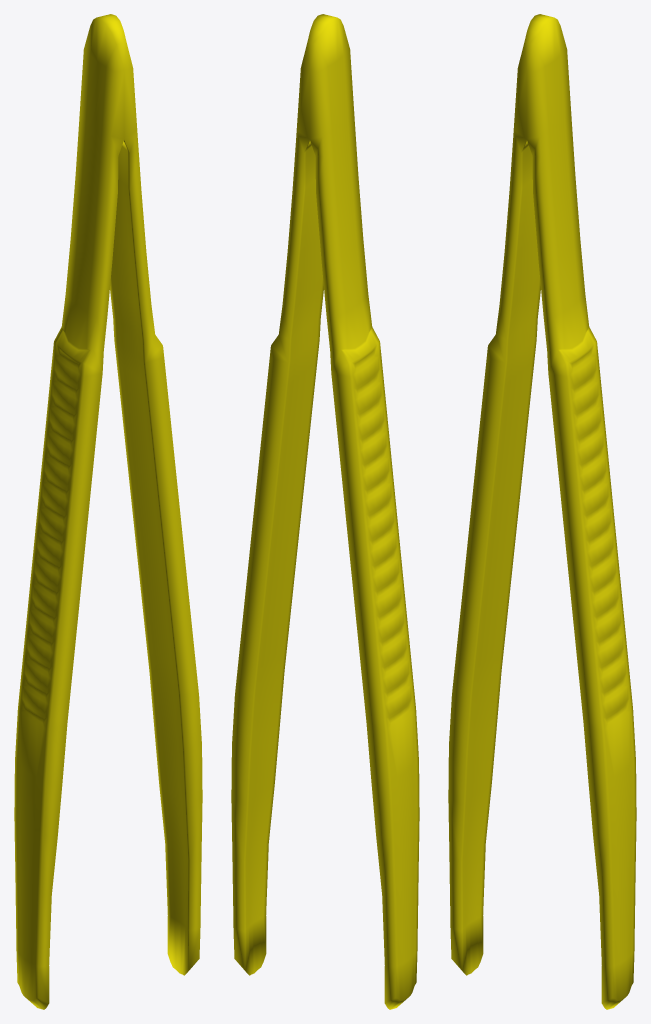
The model's file is twisers1.fbx.
The picture shows the model from 3 angles, left to right: view 1: azimuth 30°, elevation 25°; view 2: azimuth 150°, elevation 25°; view 3: azimuth 330°, elevation 25°; orthographic projection.
Visible parts, largest first — view 1: Plane.006; view 2: Plane.006; view 3: Plane.006.
Part boxes in pixels (left/top/right/bottom): Plane.006: left=14, top=14, right=202, bottom=1009; Plane.006: left=231, top=14, right=419, bottom=1009; Plane.006: left=448, top=14, right=636, bottom=1009.
Size of the model in its own units: 67.86 by 378 by 22.13.
